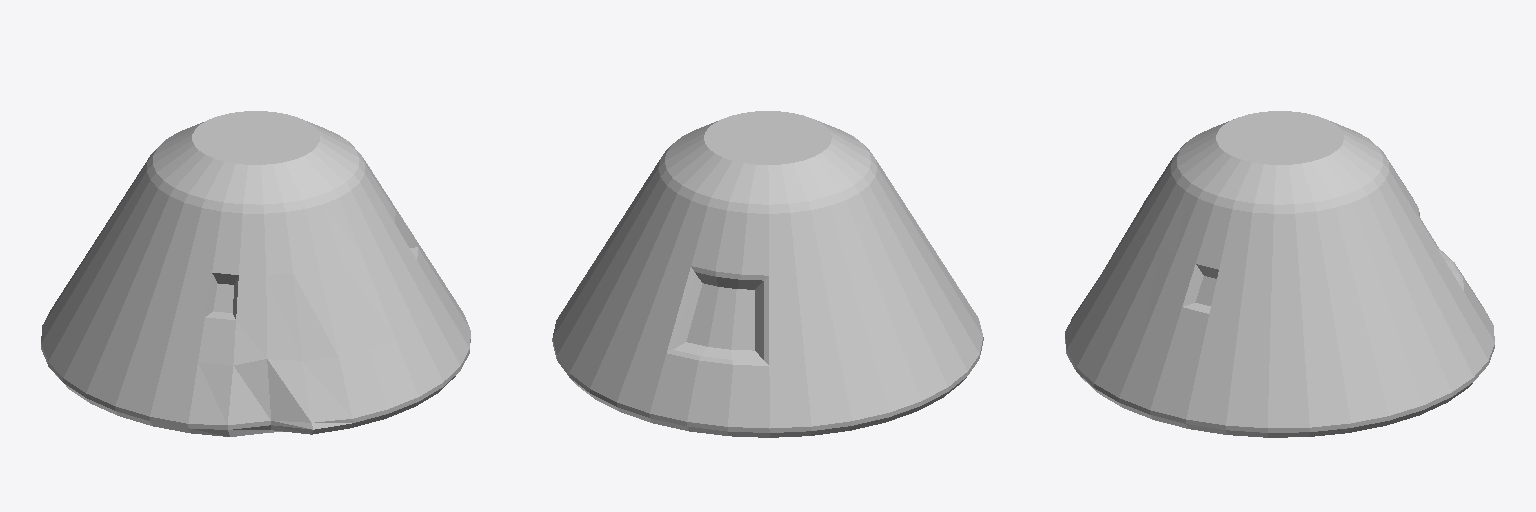
The model's file is Lander.obj.
3 renders of one model, left to right at view 1: azimuth 30°, elevation 25°; view 2: azimuth 150°, elevation 25°; view 3: azimuth 270°, elevation 25°, orthographic.
Visible parts, largest first — view 1: lander; view 2: lander; view 3: lander.
Boxes of the visible parts, x1=… form: lander: x1=41, y1=111, x2=470, y2=436; lander: x1=552, y1=111, x2=983, y2=437; lander: x1=1065, y1=111, x2=1494, y2=437.
Bounding box in the file's own units: 12.8 × 7.75 × 12.8.